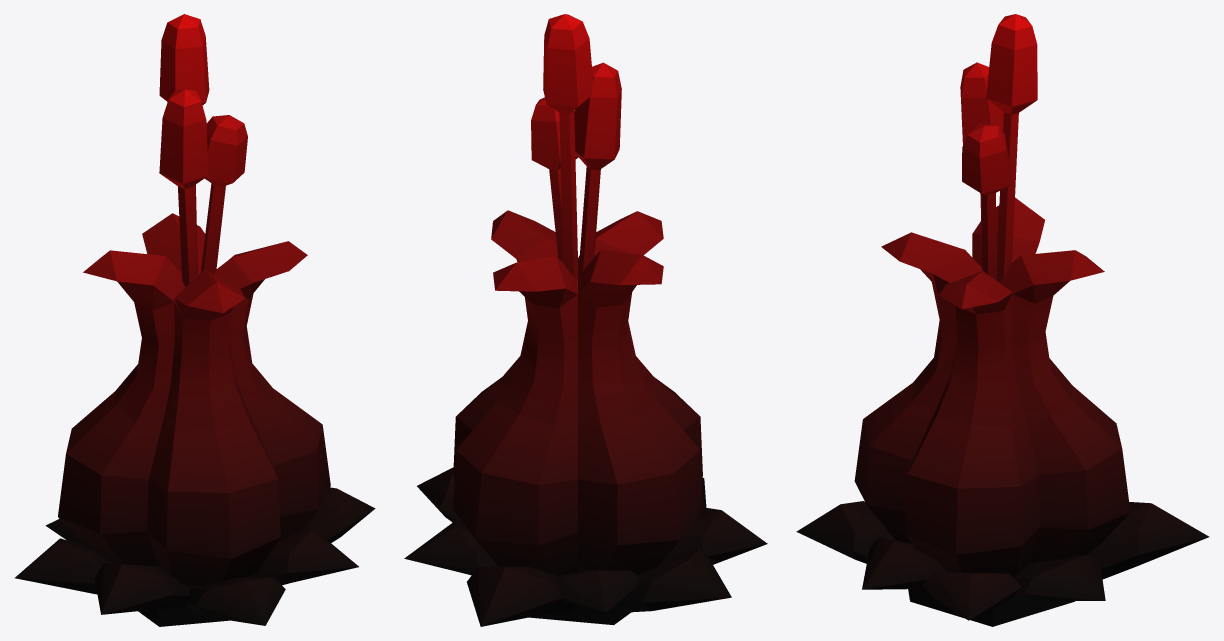
The model's file is SM_Env_Plant_Bulb_01.fbx.
3 renders of one model, left to right at view 1: azimuth 30°, elevation 25°; view 2: azimuth 150°, elevation 25°; view 3: azimuth 270°, elevation 25°, orthographic. The views are drawn at different scales.
Visible parts, largest first — view 1: SM_Env_Plant_Bulb_01; view 2: SM_Env_Plant_Bulb_01; view 3: SM_Env_Plant_Bulb_01.
Boxes of the visible parts, <box> form: SM_Env_Plant_Bulb_01: <box>14,14,375,626</box>; SM_Env_Plant_Bulb_01: <box>404,14,767,626</box>; SM_Env_Plant_Bulb_01: <box>796,14,1209,626</box>.
Bounding box in the file's own units: 307 × 518 × 325.
